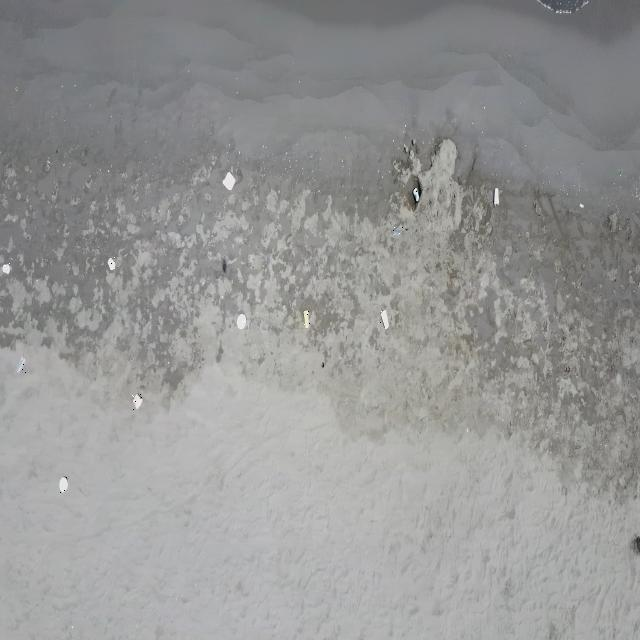take-away-containers: (222, 171, 236, 191), (132, 393, 143, 410), (58, 476, 68, 494), (236, 314, 247, 330), (108, 257, 116, 271), (2, 262, 10, 275)
takeaway-cup: (380, 308, 390, 330), (16, 355, 26, 373), (494, 187, 502, 208), (303, 309, 310, 330), (394, 224, 404, 238), (413, 188, 419, 202)
